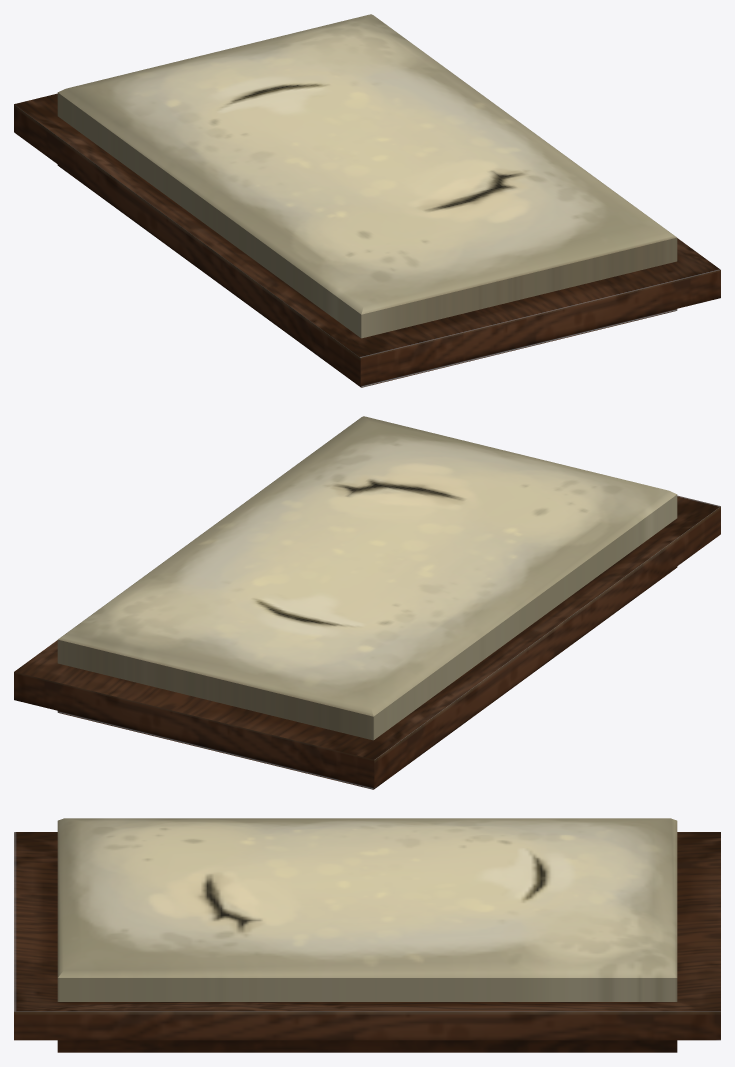
The model's file is Bed.fbx.
3 renders of one model, top to bottom at view 1: azimuth 30°, elevation 25°; view 2: azimuth 150°, elevation 25°; view 3: azimuth 270°, elevation 25°, orthographic. The views are drawn at different scales.
Parts seen in each view (by area): view 1: Cube.032; view 2: Cube.032; view 3: Cube.032.
Boxes of the visible parts, x1,y1,x2,y2 form: Cube.032: [14, 14, 720, 387]; Cube.032: [14, 416, 720, 789]; Cube.032: [14, 818, 720, 1052].
Size of the model in its own units: 243 by 56.87 by 405.
